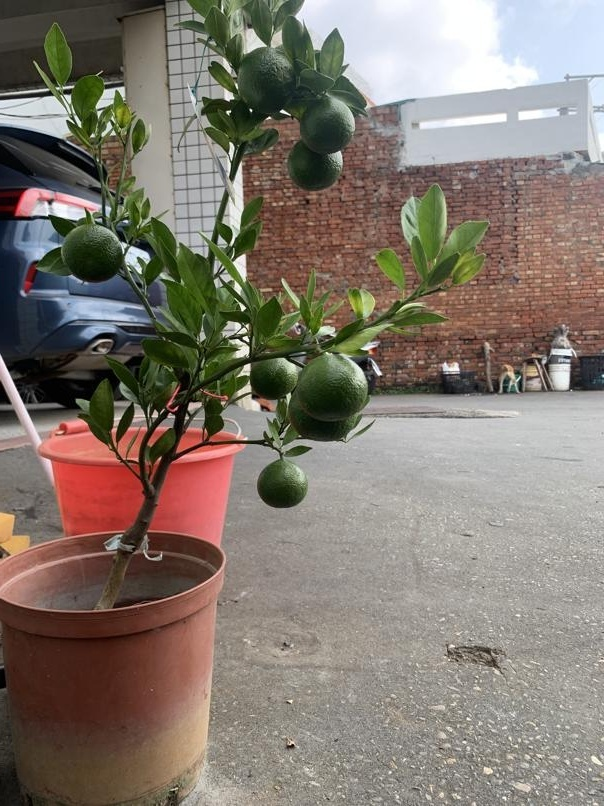Tangerine: (296, 352, 369, 422), (232, 44, 298, 112), (60, 219, 123, 281), (255, 453, 311, 513), (302, 94, 357, 154), (289, 134, 345, 190)
